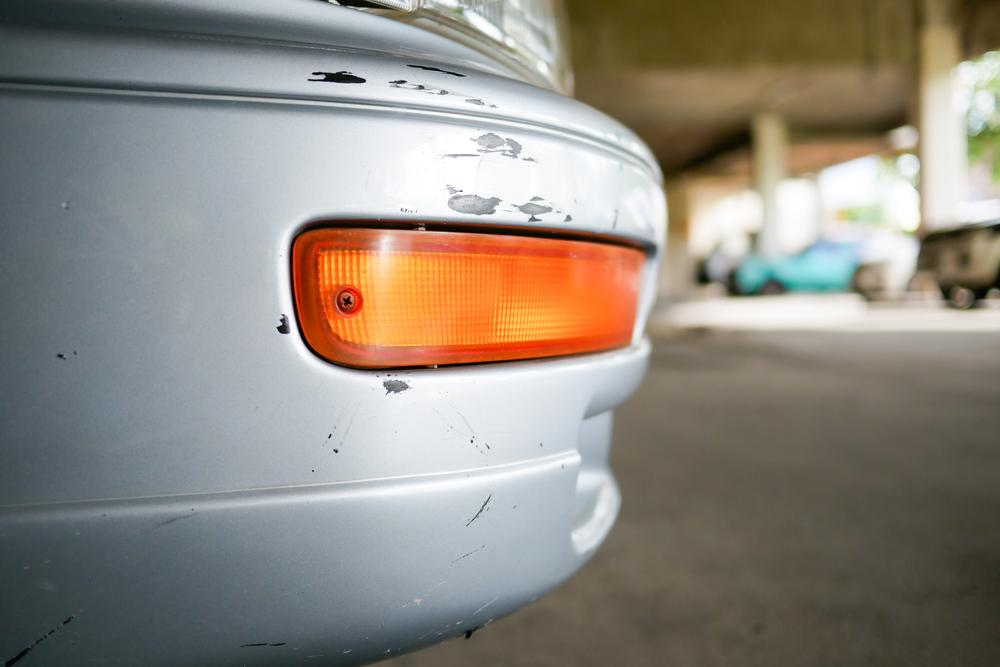scratch: (443, 128, 579, 228), (302, 59, 501, 111), (0, 603, 78, 667)
